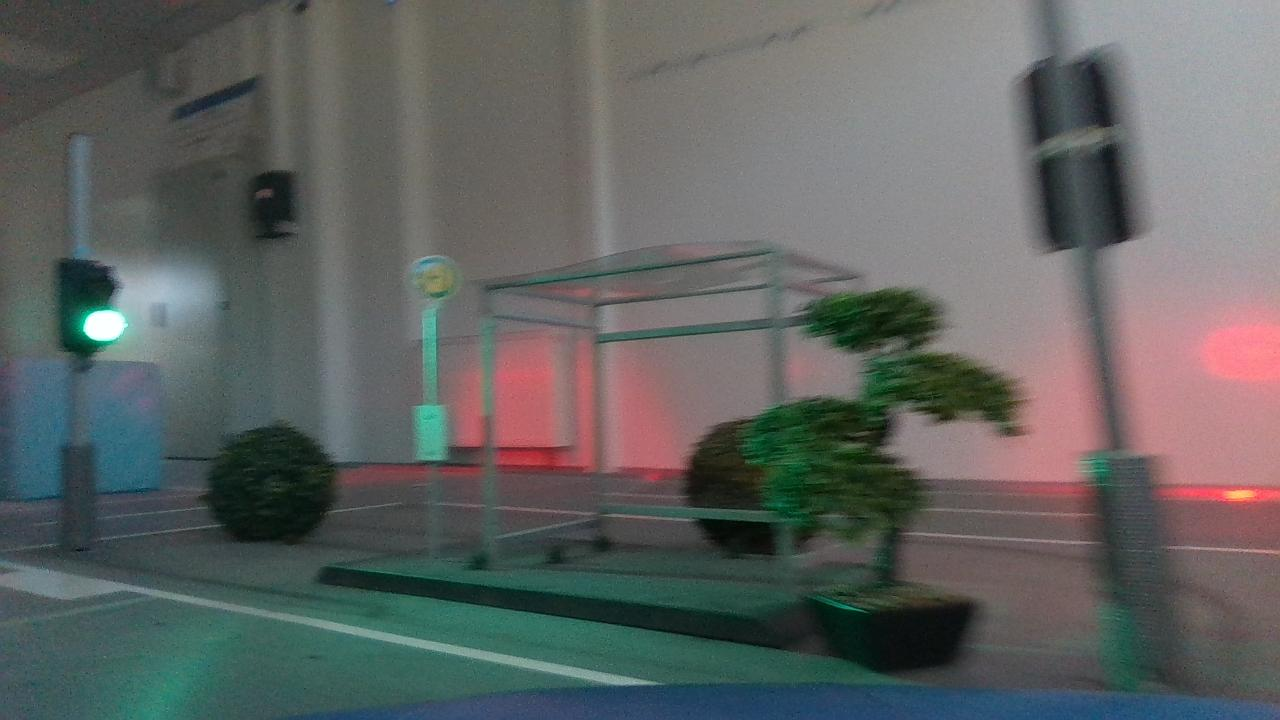traffic_light_green: (54, 237, 132, 371)
